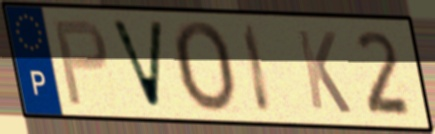2: (357, 28, 416, 119)
I: (239, 20, 276, 118)
K: (293, 26, 355, 117)
O: (169, 19, 240, 117)
P: (50, 17, 112, 108)
V: (106, 16, 167, 113)
